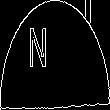N_S: (44, 29, 66, 81)
